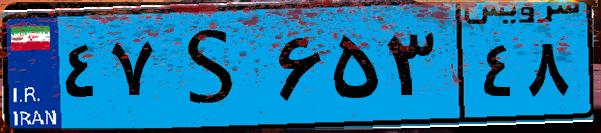3: (385, 28, 445, 110)
4: (57, 26, 110, 100), (475, 38, 525, 113)
5: (330, 28, 385, 110)
6: (270, 28, 330, 110)
7: (110, 28, 158, 98)
8: (525, 38, 570, 115)
S: (158, 12, 270, 120)
